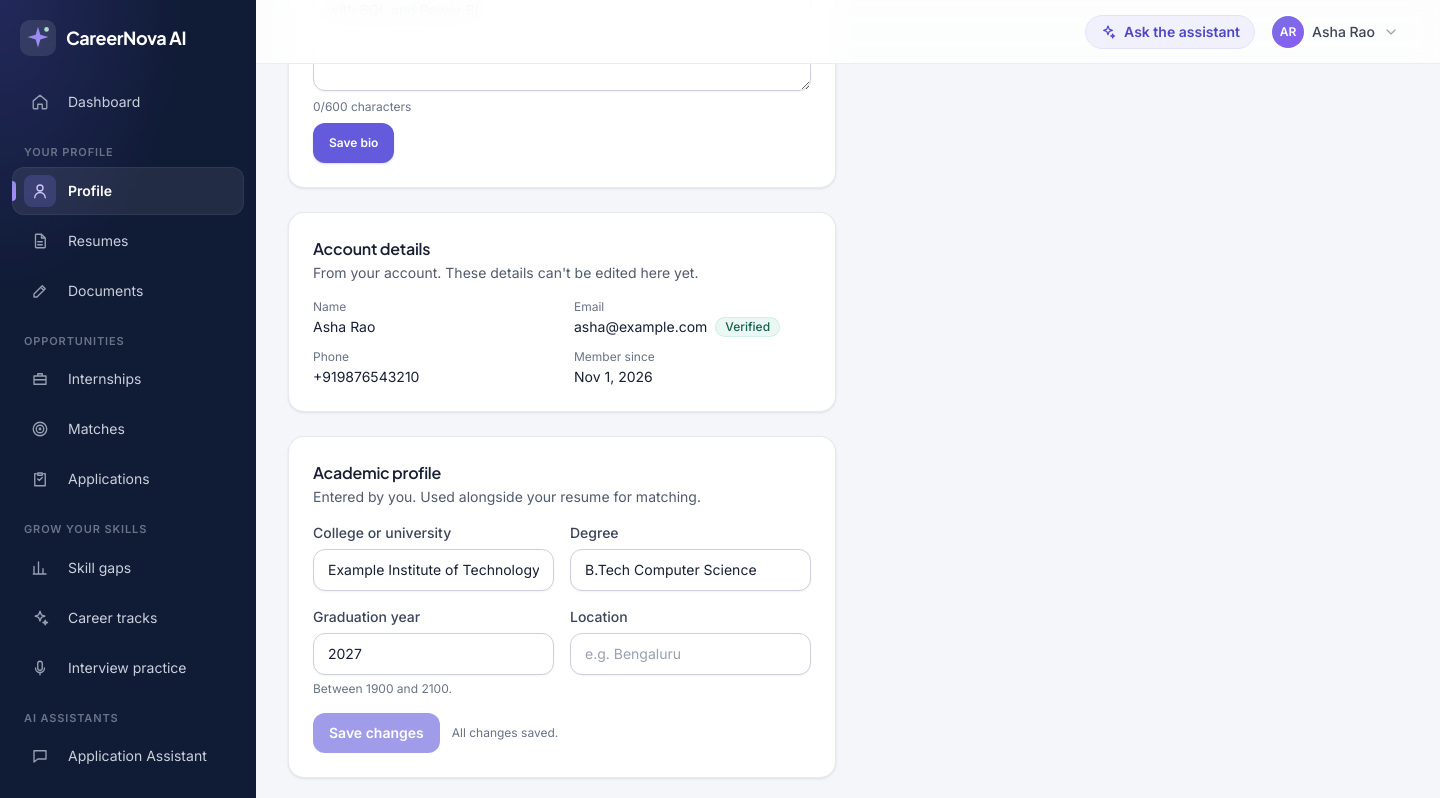
Scenario: Profile: existing profile › discards unsaved changes
(page scrolled)
Replace the text in the field showing "Example Institute of Technology" with "Other College": {"x": 434, "y": 570} [313,549,554,591]
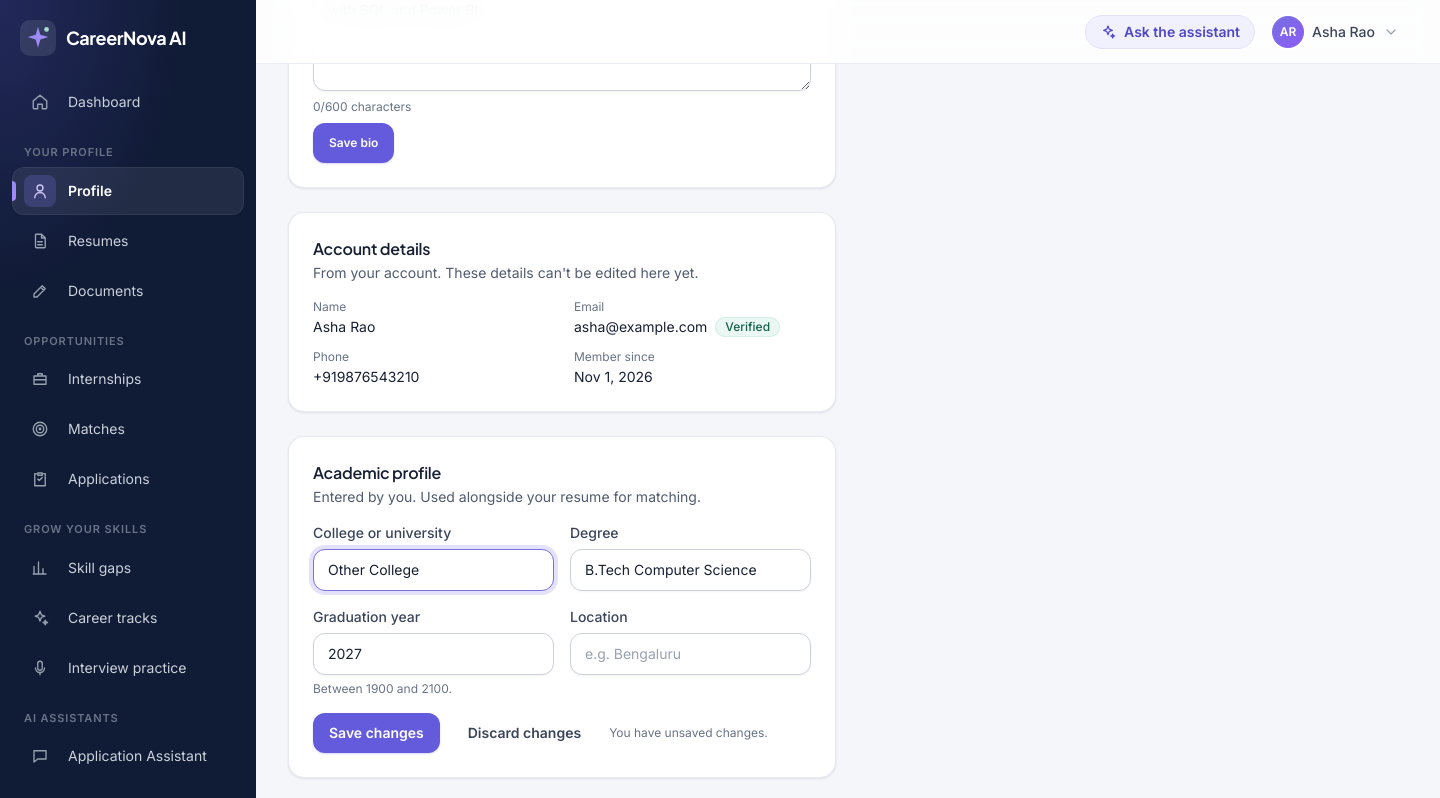
Click the button "Discard changes": {"x": 524, "y": 733} [452,713,597,753]
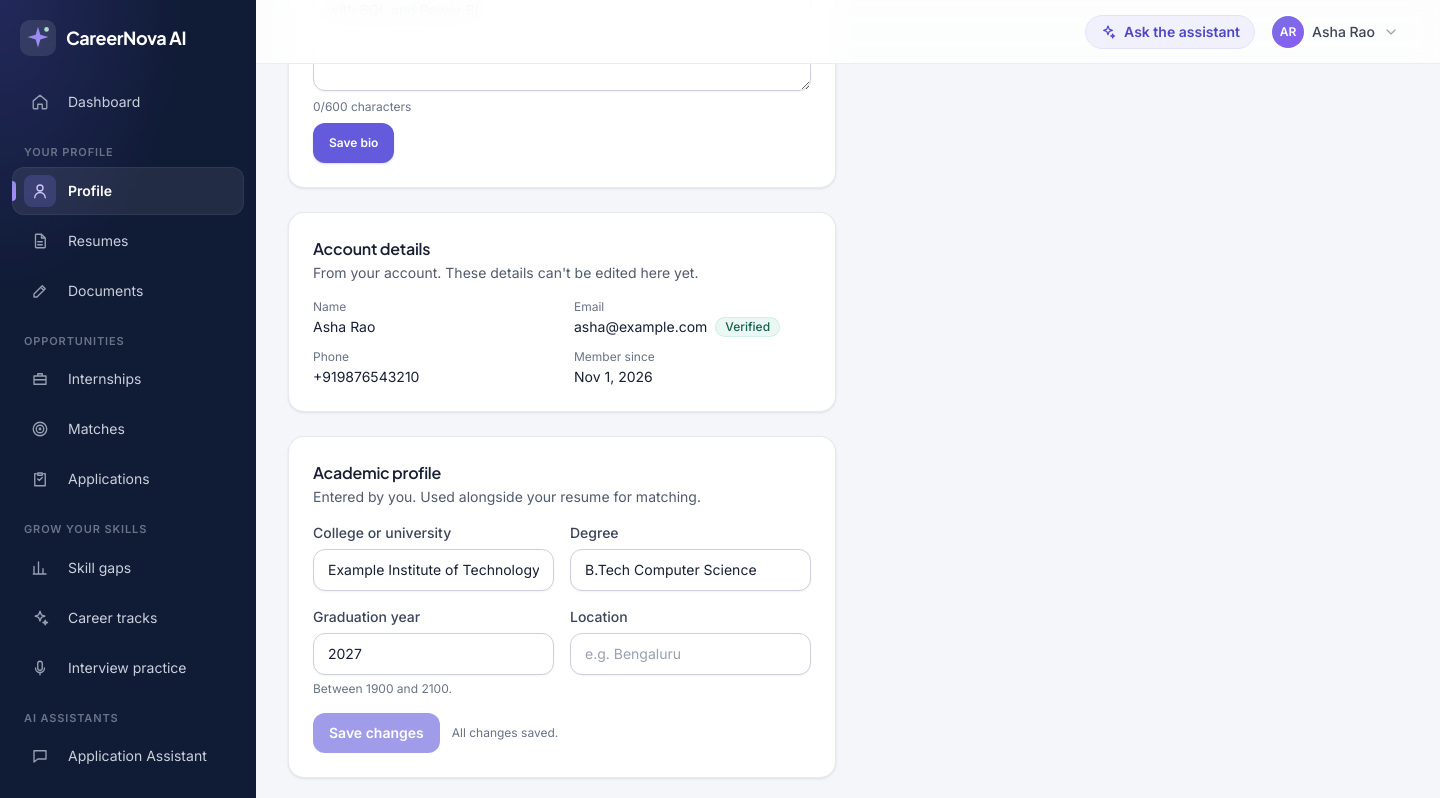
Expected: the field showing "Example Institute of Technology" holds "Example Institute of Technology", [313,549,554,591]
